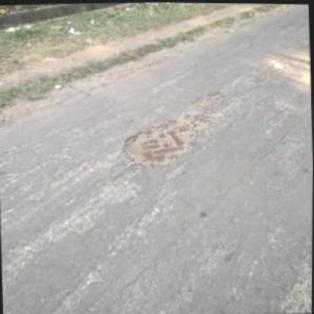Hueco: (121, 112, 208, 168), (196, 90, 224, 106)
